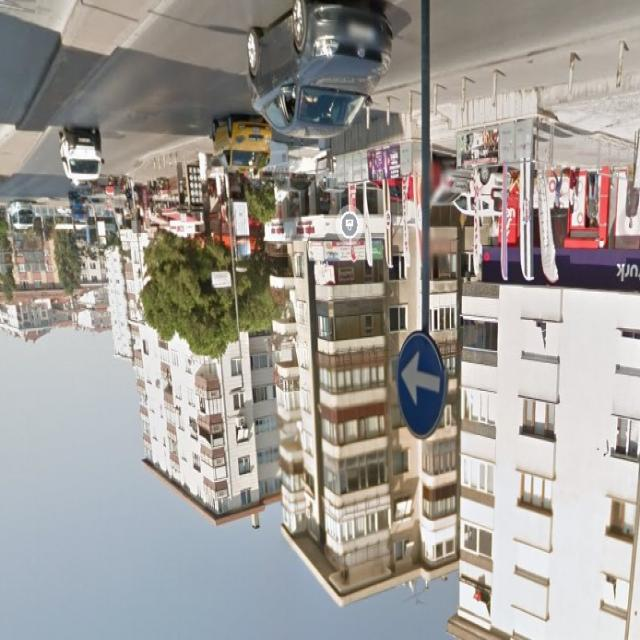Turn Left: (398, 333, 442, 439)
